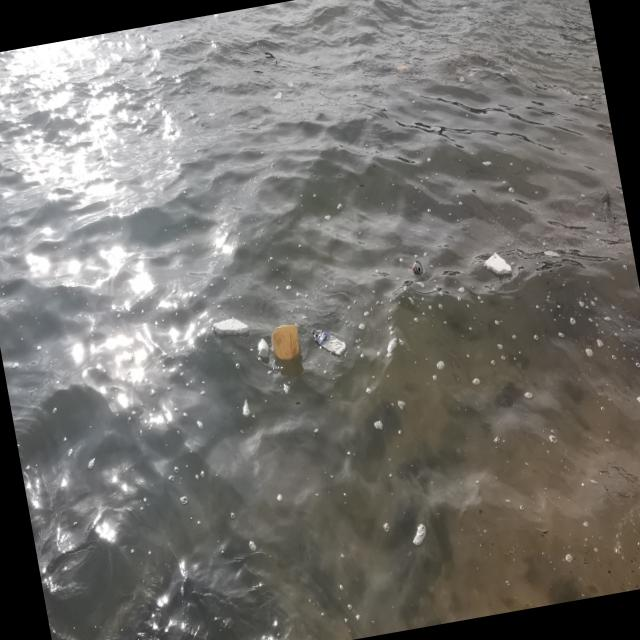can: (410, 260, 425, 276), (636, 390, 640, 412)
foam: (213, 315, 252, 341), (484, 251, 513, 280)
plastic bottle: (313, 323, 350, 360), (257, 338, 272, 360)
